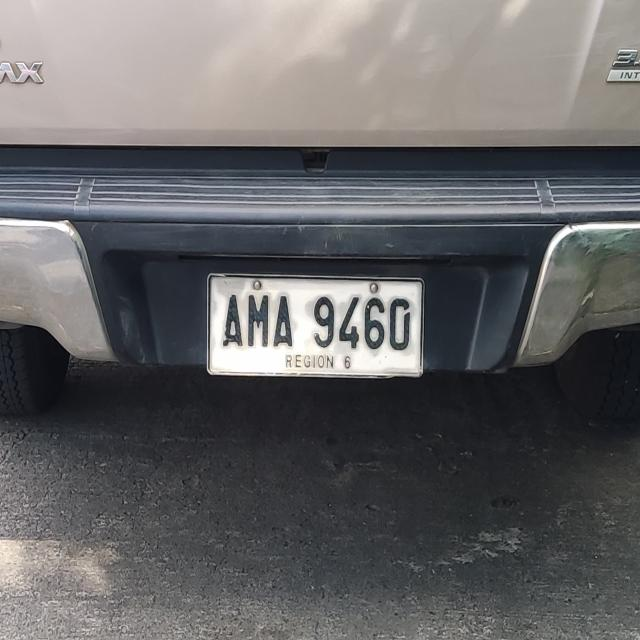plate: (205, 271, 426, 381)
